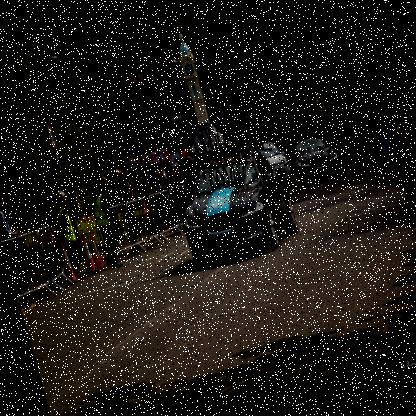Car: (165, 140, 303, 272), (290, 132, 344, 188), (260, 140, 294, 184)
